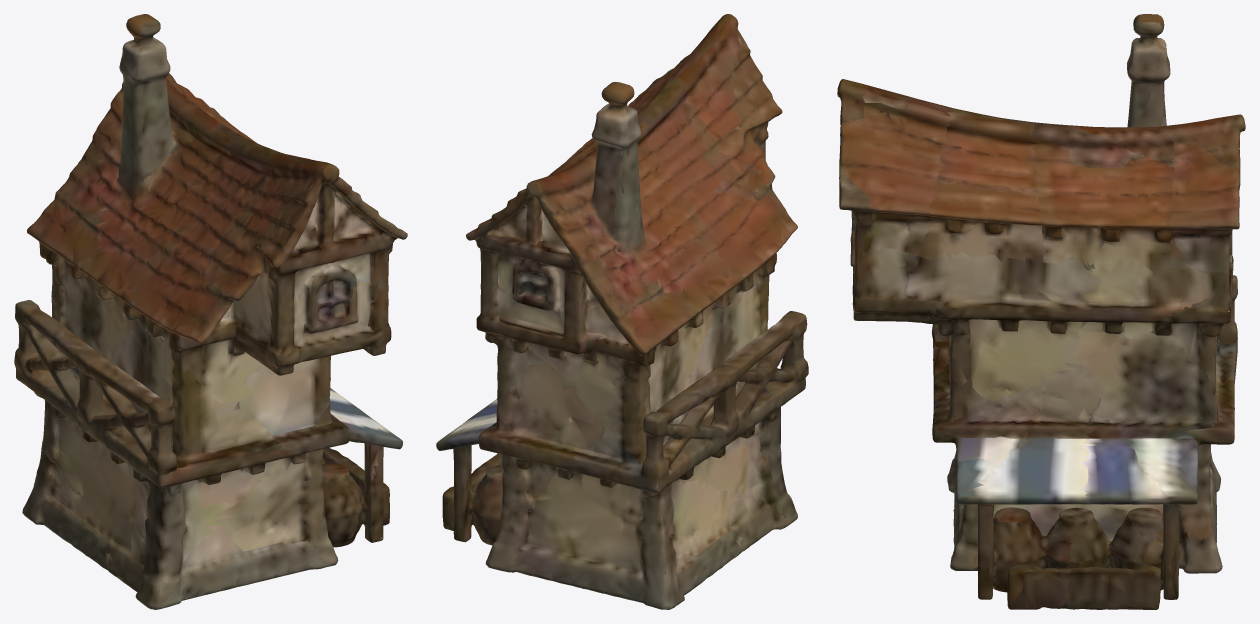
Rendered from building 4.glb.
The picture shows the model from 3 angles, left to right: view 1: azimuth 30°, elevation 25°; view 2: azimuth 150°, elevation 25°; view 3: azimuth 270°, elevation 25°; orthographic projection. The views are drawn at different scales.
Parts seen in each view (by area): view 1: Mesh_0; view 2: Mesh_0; view 3: Mesh_0.
Boxes of the visible parts, x1=… form: Mesh_0: x1=14, y1=14, x2=407, y2=609; Mesh_0: x1=436, y1=14, x2=808, y2=609; Mesh_0: x1=837, y1=14, x2=1245, y2=609.
Bounding box in the file's own units: 0.318 × 0.5612 × 0.4101.
Materials: 1 (1 with a texture image).
